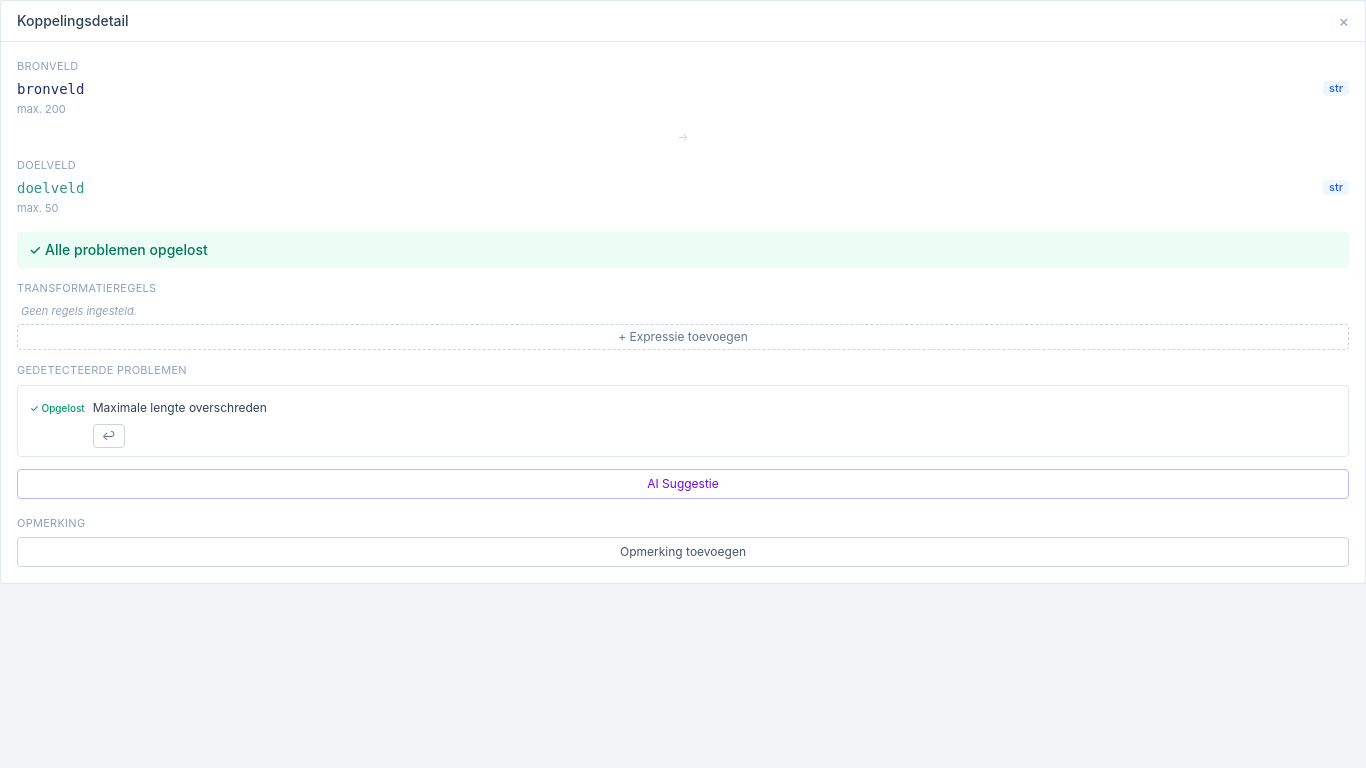
CouplingDetailPanel — manual mismatch resolution › reverts mismatch to unresolved when Markeer als onopgelost is clicked
The width and height of the screenshot is (1366, 768).
Click the button with test id "mismatch-mark-unresolved-truncate" at point(109, 436), box [93,424,124,448]
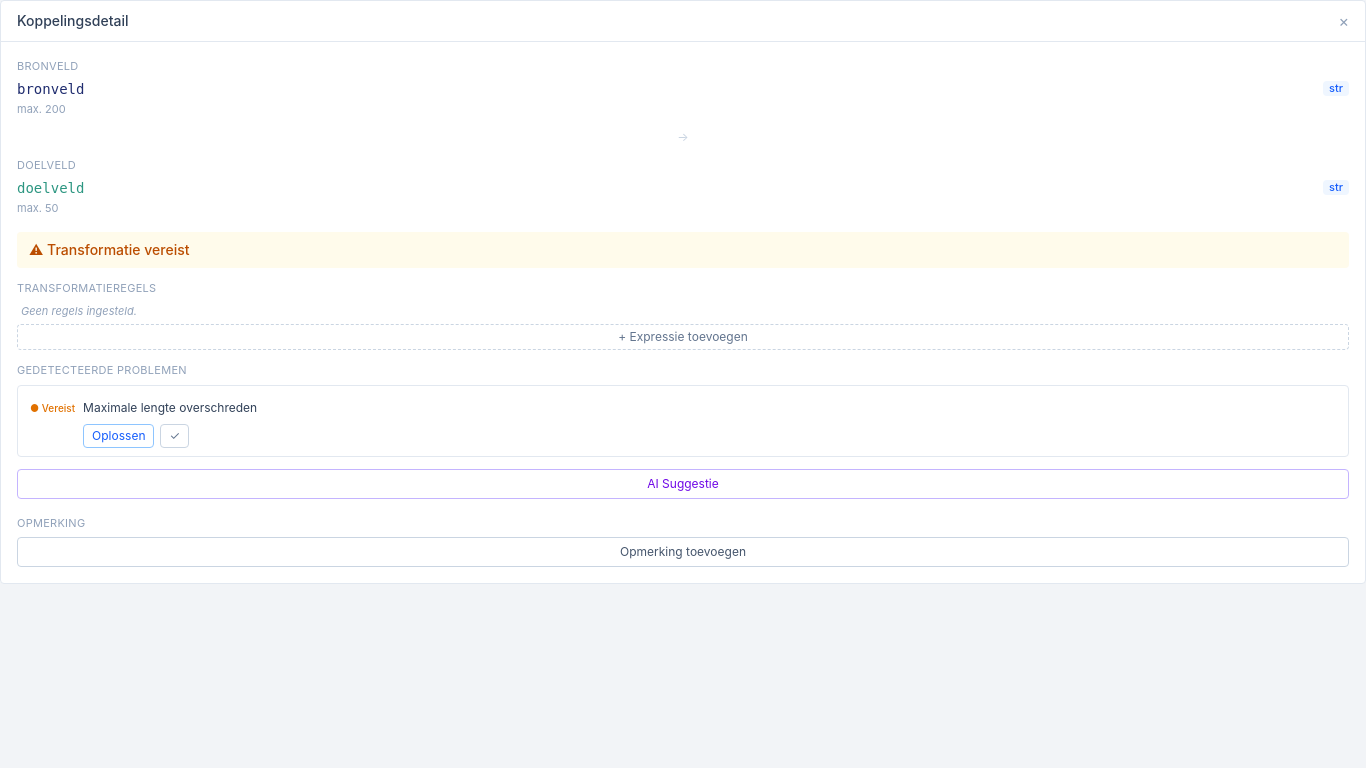
Expected: the text with test id "mismatch-status-truncate" reads "● Vereist", [30,402,75,414]
